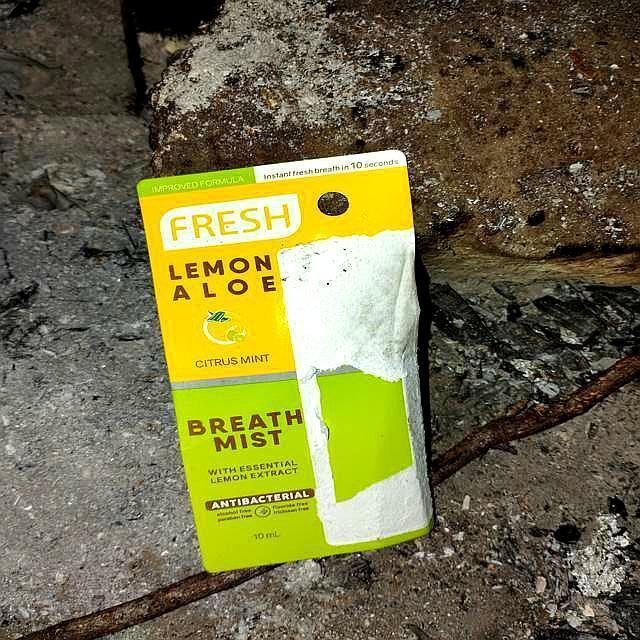Biodegradable: (134, 146, 437, 577)
